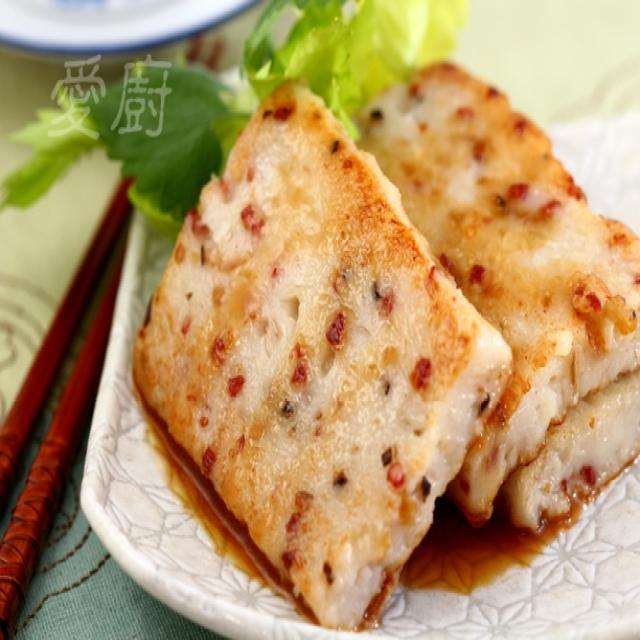蛋糕甜品: (108, 28, 619, 623)
